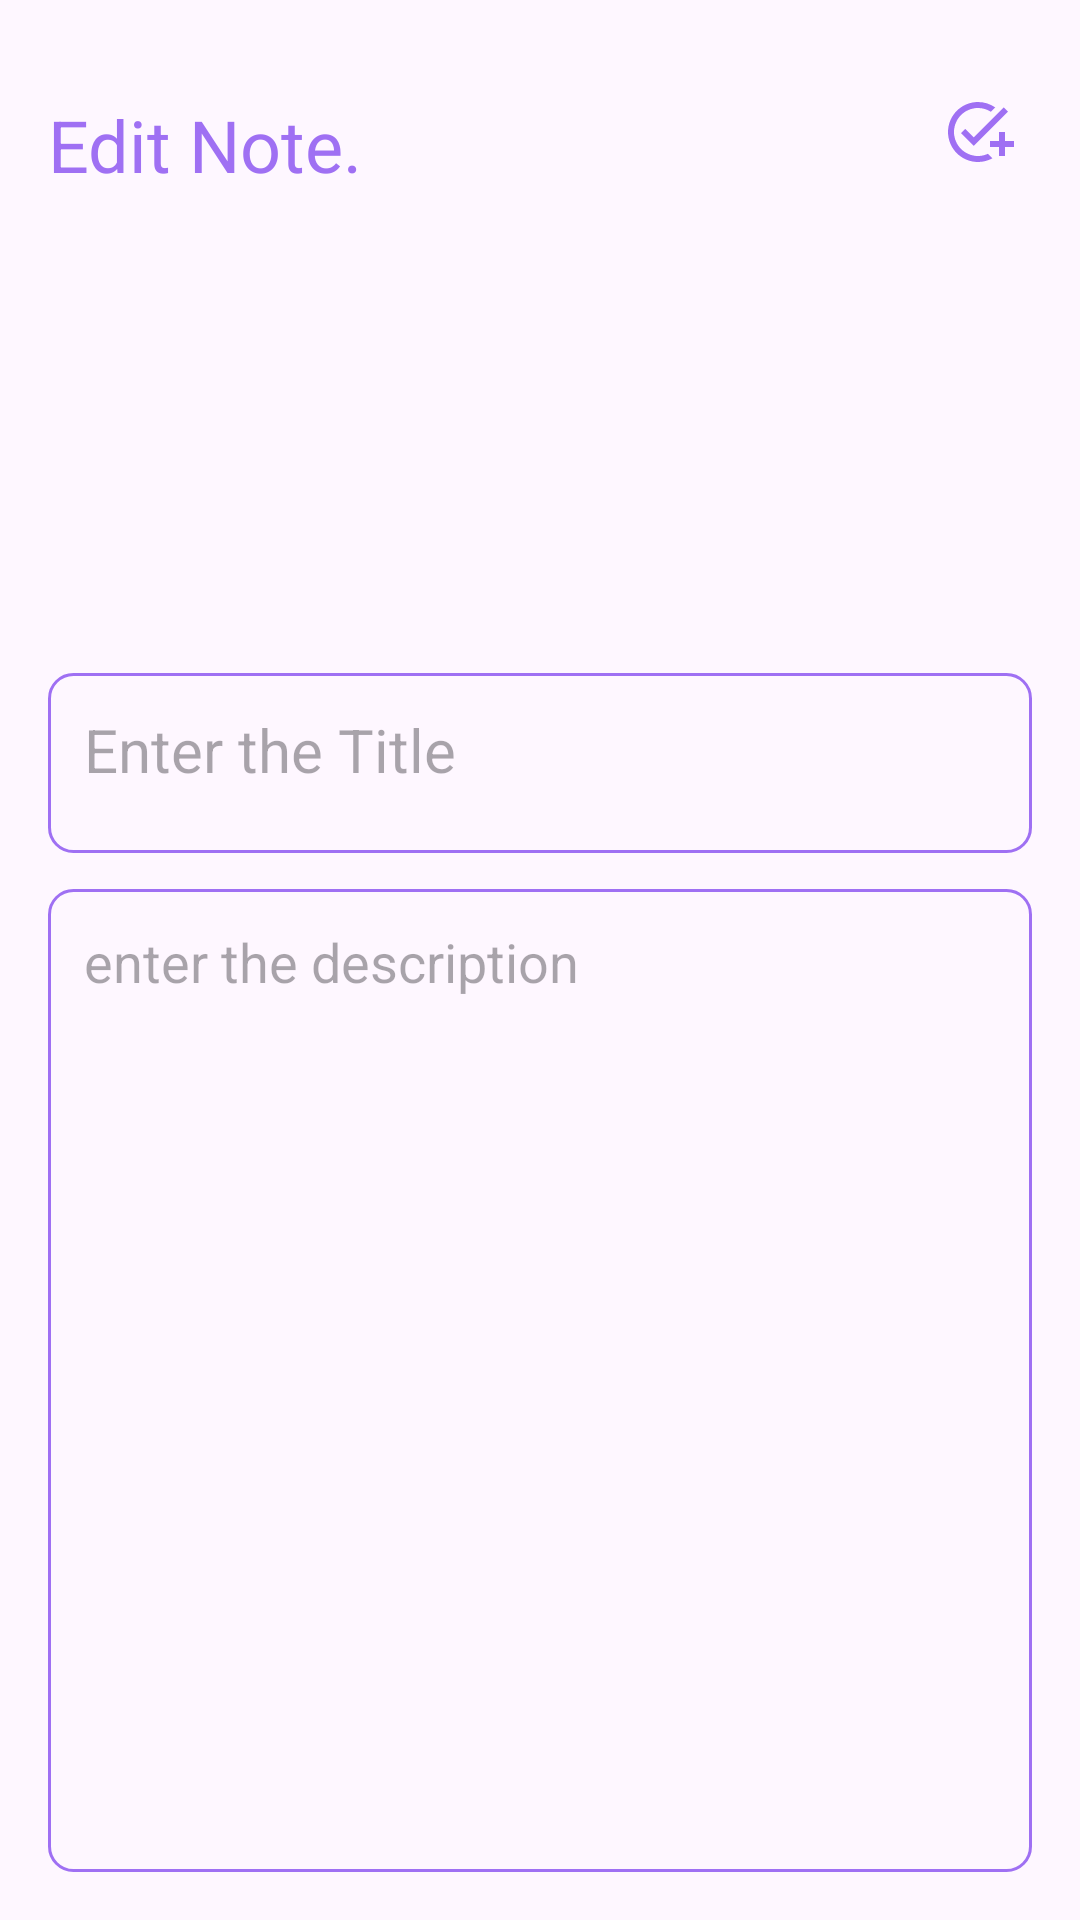

Named icons in this screenshot (1080*1920) and their bounding boxes, (x1,y1,x2,y2):
add task: (948,102,1014,162)
